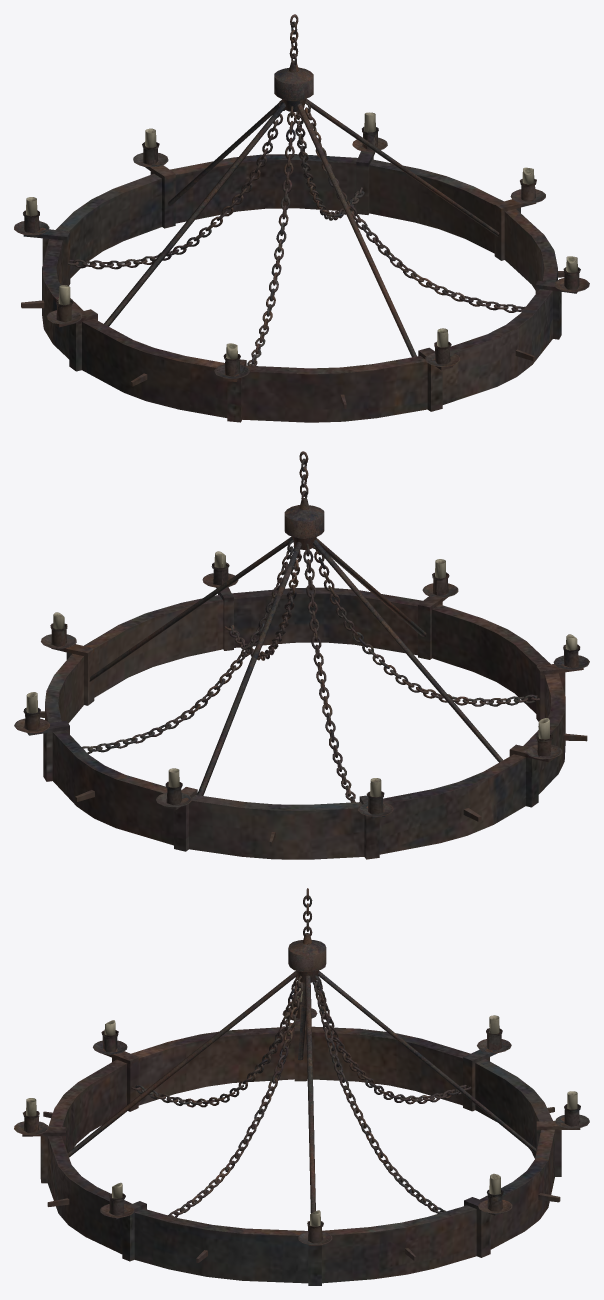
Rendered from chandelier_iron.glb.
3 views of the same model, one above another, from view 1: azimuth 30°, elevation 25°; view 2: azimuth 150°, elevation 25°; view 3: azimuth 270°, elevation 25° (orthographic). The views are drawn at different scales.
Visible parts, largest first — view 1: Chandelier_No_Flame_geo_m_chandelierBody_0, Chandelier_No_Flame_geo_m_candleHolder_0, Chandelier_No_Flame_geo_m_candle_0; view 2: Chandelier_No_Flame_geo_m_chandelierBody_0, Chandelier_No_Flame_geo_m_candleHolder_0, Chandelier_No_Flame_geo_m_candle_0; view 3: Chandelier_No_Flame_geo_m_chandelierBody_0, Chandelier_No_Flame_geo_m_candleHolder_0, Chandelier_No_Flame_geo_m_candle_0.
Part boxes in pixels (left/top/right/bottom): Chandelier_No_Flame_geo_m_chandelierBody_0: left=21, top=14, right=577, bottom=422; Chandelier_No_Flame_geo_m_candleHolder_0: left=14, top=127, right=589, bottom=379; Chandelier_No_Flame_geo_m_candle_0: left=26, top=112, right=577, bottom=359; Chandelier_No_Flame_geo_m_chandelierBody_0: left=25, top=451, right=587, bottom=859; Chandelier_No_Flame_geo_m_candleHolder_0: left=14, top=562, right=589, bottom=816; Chandelier_No_Flame_geo_m_candle_0: left=26, top=551, right=577, bottom=797; Chandelier_No_Flame_geo_m_chandelierBody_0: left=22, top=888, right=580, bottom=1285; Chandelier_No_Flame_geo_m_candleHolder_0: left=14, top=999, right=589, bottom=1245; Chandelier_No_Flame_geo_m_candle_0: left=26, top=981, right=577, bottom=1226.
Bounding box in the file's own units: 1.22 × 0.6921 × 1.25.
Materials: 3 (3 with a texture image).
